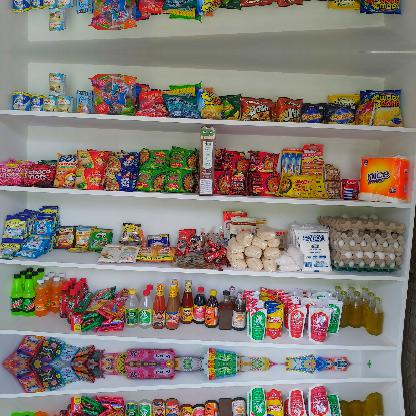Koko-Krunch: (198, 125, 216, 195)
